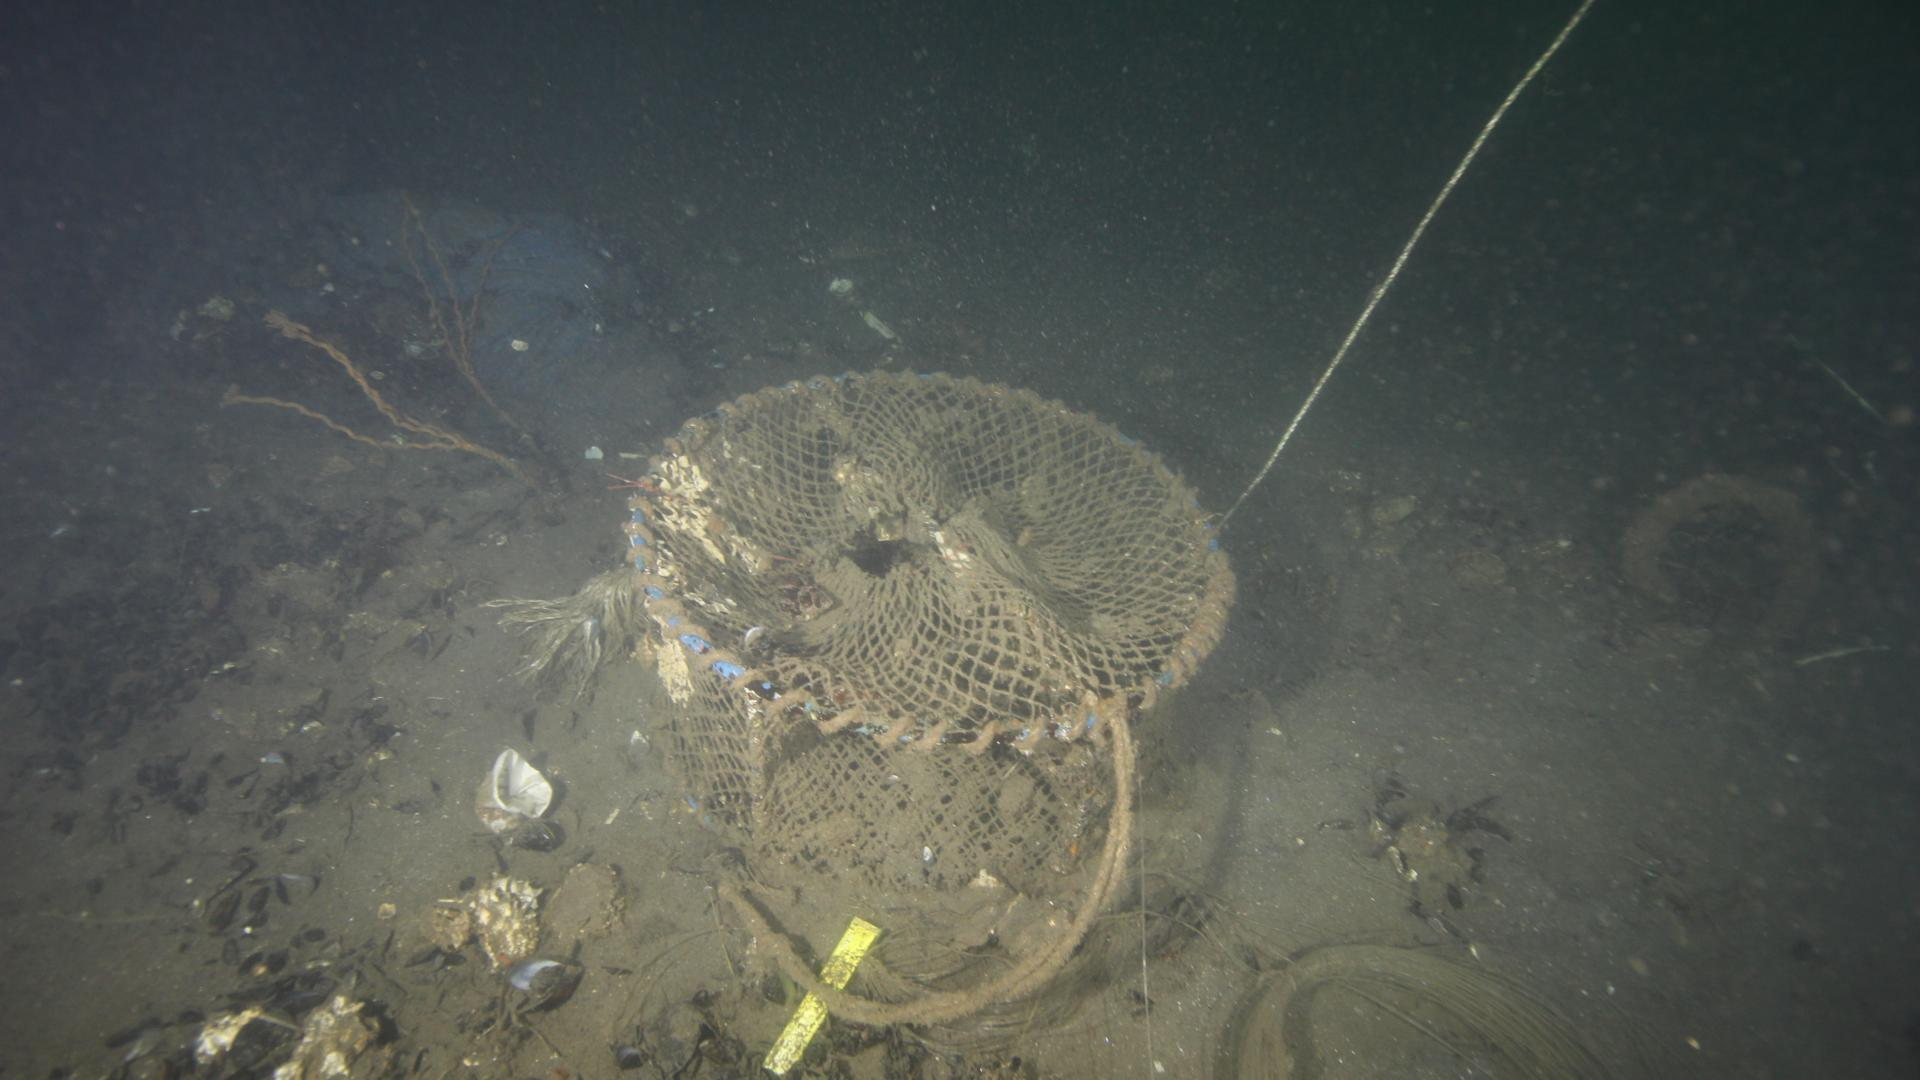bundle of ropes: (713, 712, 1139, 1027)
circular fish trap: (622, 367, 1238, 906)
rope: (1209, 0, 1590, 535)
